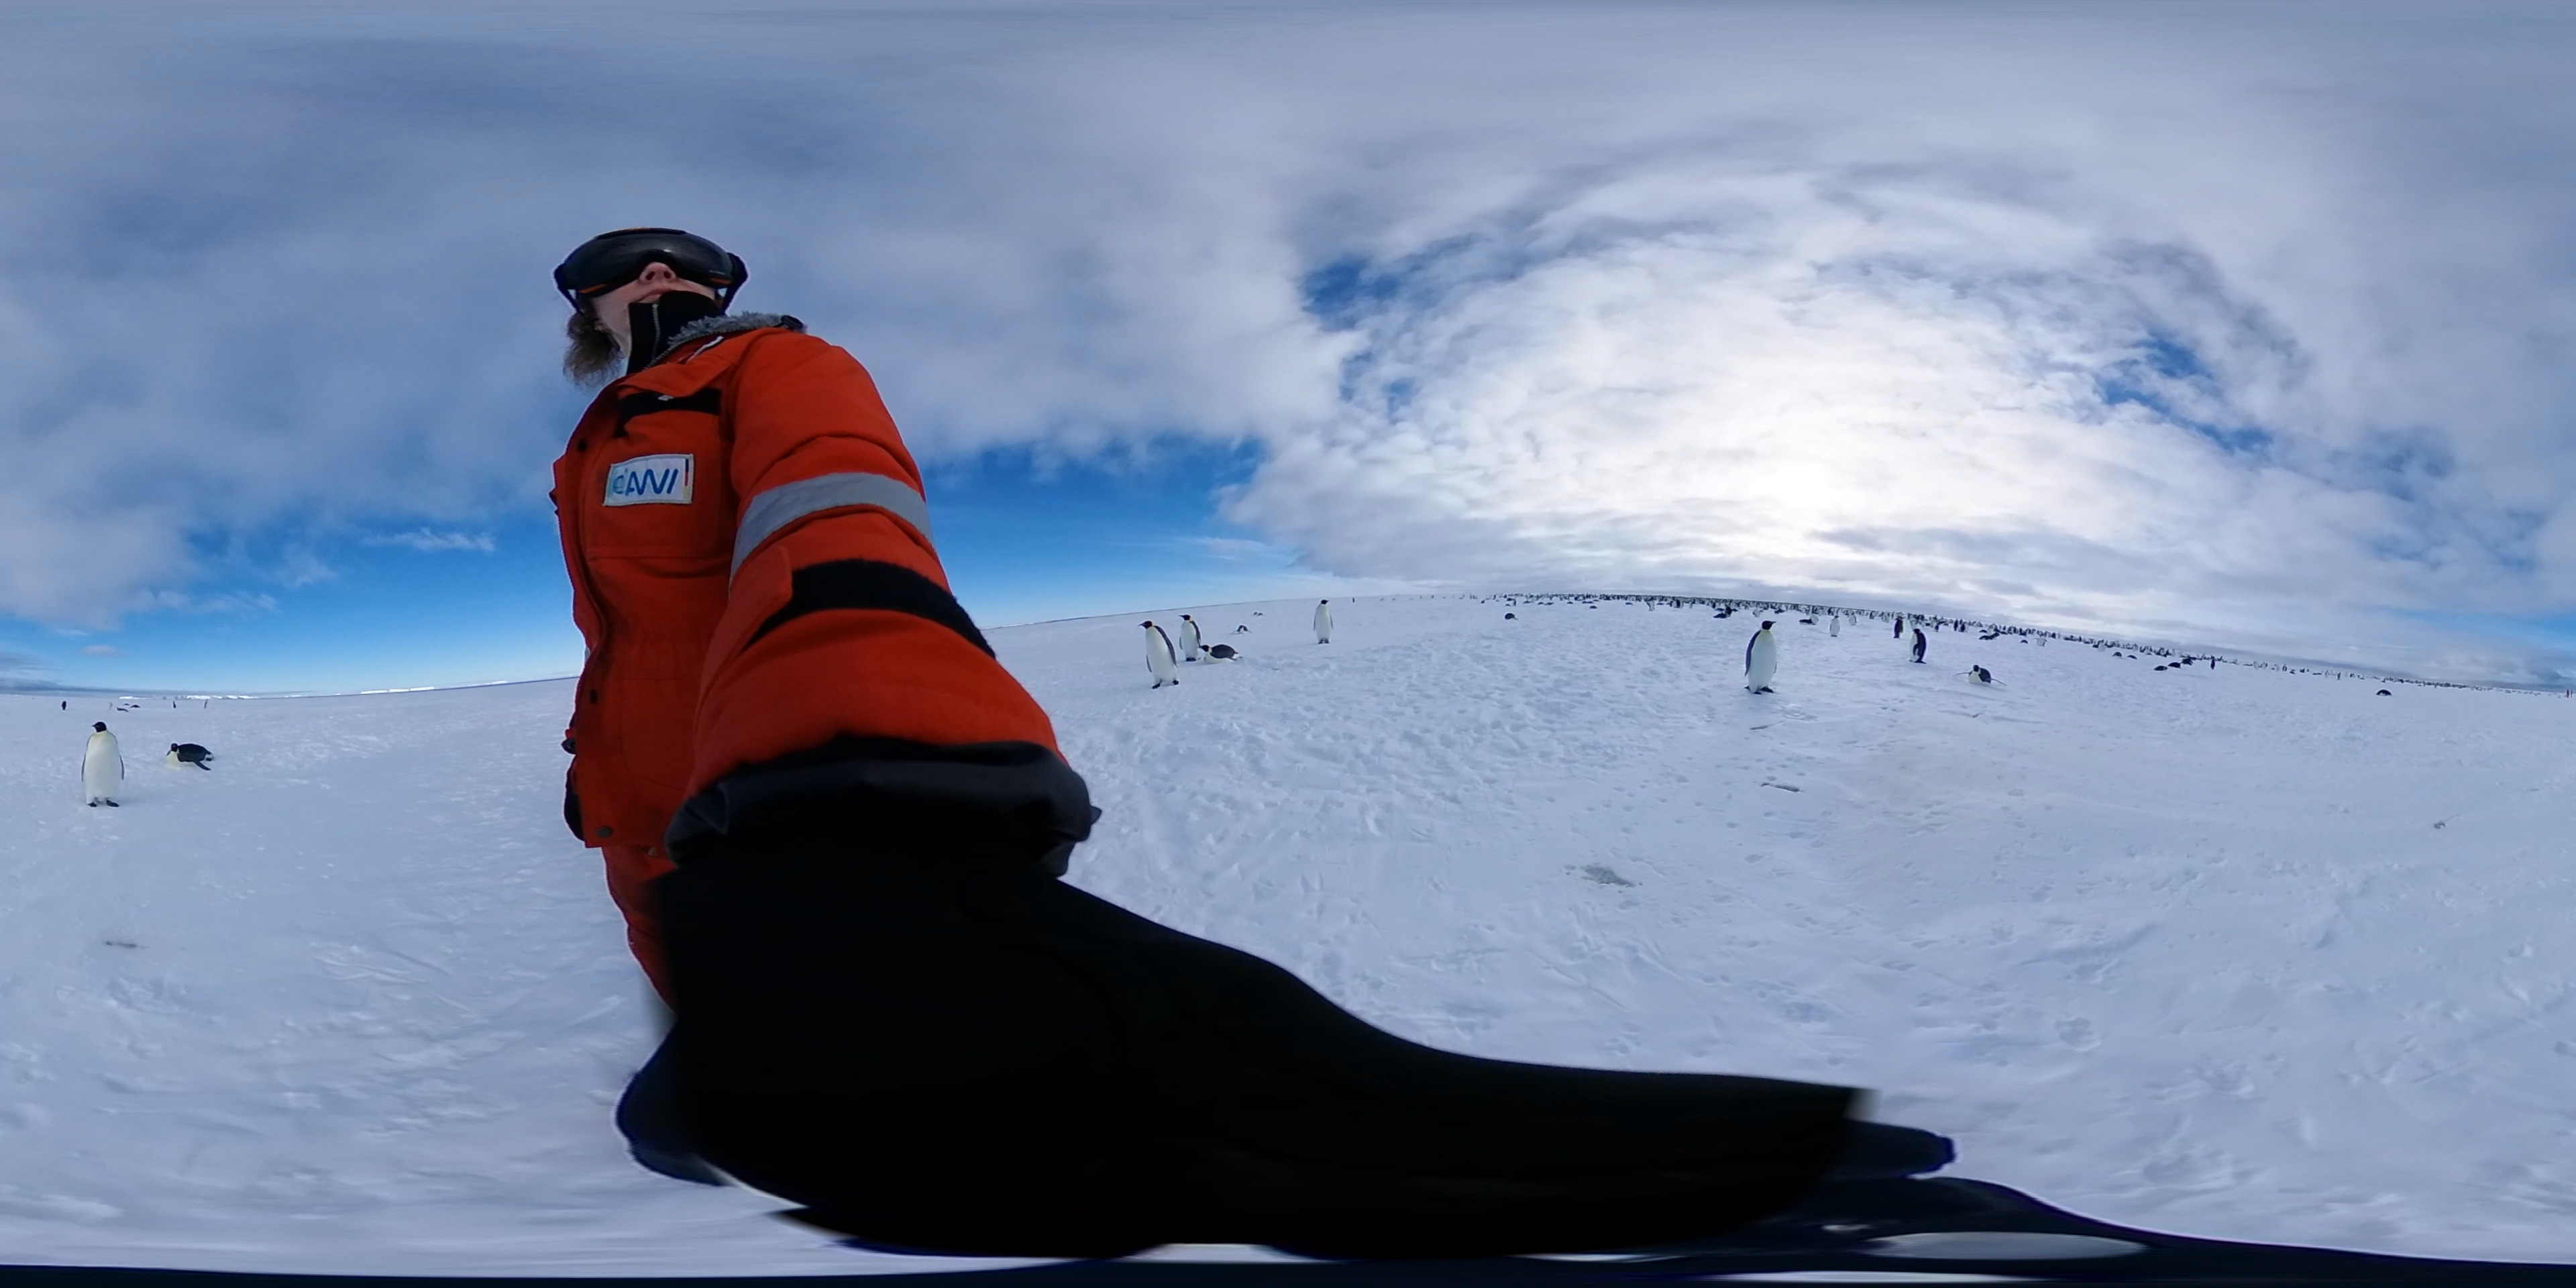adult_standing_penguin: (79, 718, 130, 808), (1135, 619, 1184, 692), (1741, 619, 1782, 693), (1176, 611, 1201, 665), (1309, 596, 1336, 646), (1904, 628, 1930, 665), (1828, 614, 1843, 637)
adult_toboggan_penguin: (164, 743, 223, 772), (1955, 660, 2008, 687), (1196, 641, 1244, 665), (1230, 624, 1252, 636), (2372, 688, 2392, 697)
researcher: (536, 220, 1104, 1234)
